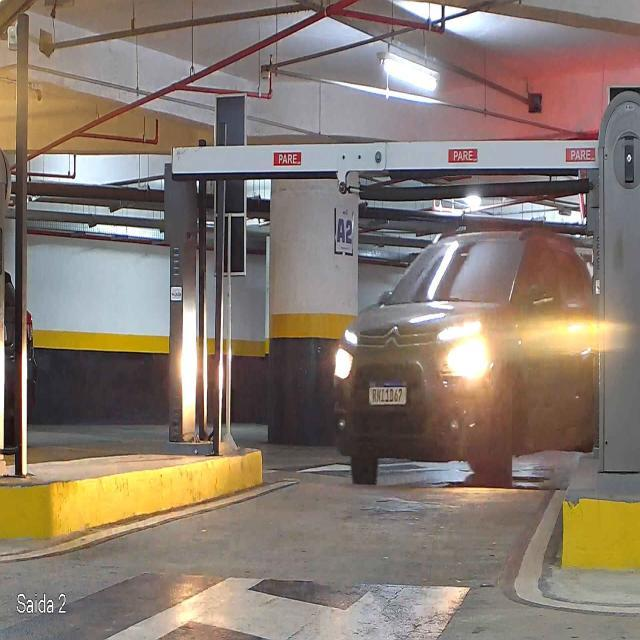mercosul_plate: (367, 381, 409, 407)
